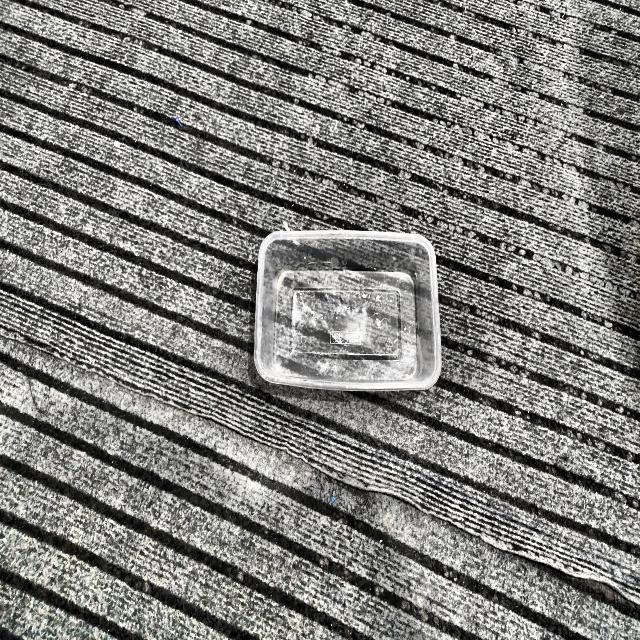plastic container: (274, 270, 418, 382)
